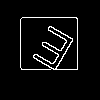E: (25, 25, 77, 81)
